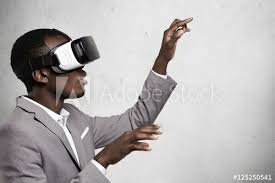oculus: (50, 35, 102, 76)
